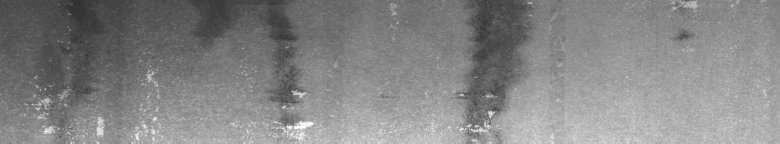hc: (391, 4, 534, 136)
